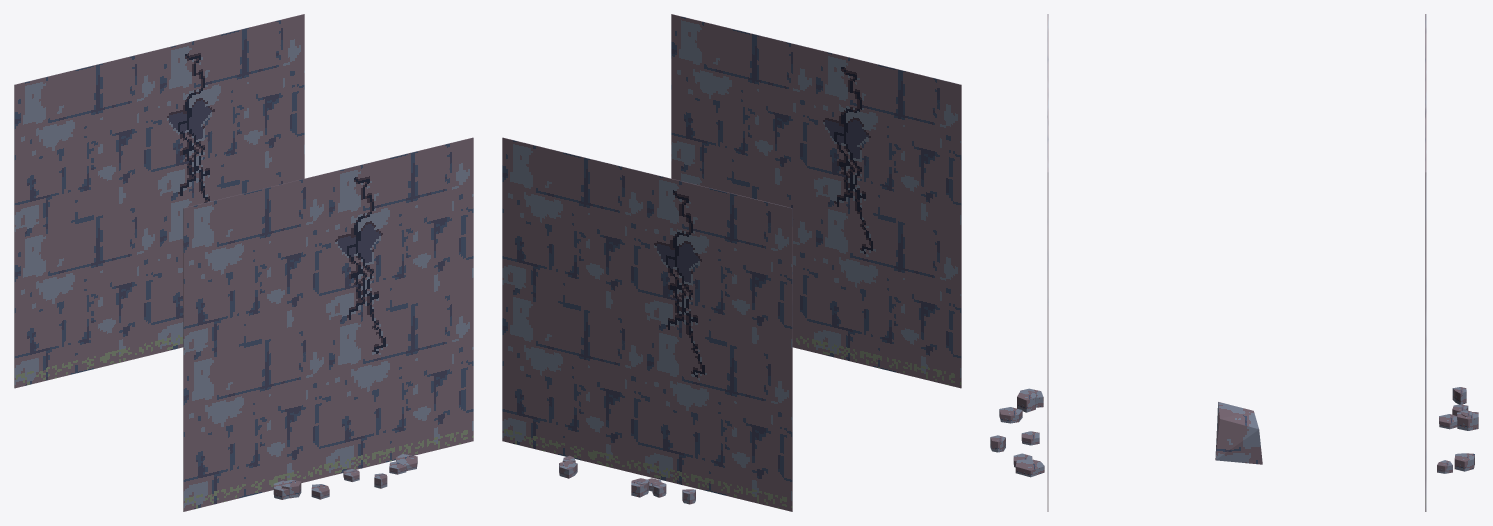
Rendered from cracked_wall_a.glb.
3 views of the same model, side by side, from view 1: azimuth 30°, elevation 25°; view 2: azimuth 150°, elevation 25°; view 3: azimuth 270°, elevation 25° (orthographic). The views are drawn at different scales.
Parts seen in each view (by area): view 1: panel_front, panel_back, debris_front; view 2: panel_back, panel_front, debris_back; view 3: chunk, debris_front, debris_back, panel_back, panel_front.
Boxes of the visible parts, x1,y1,x2,y2 form: panel_front: [183, 137, 473, 511]; panel_back: [14, 14, 304, 388]; debris_front: [273, 454, 417, 499]; panel_back: [502, 137, 792, 511]; panel_front: [671, 14, 961, 388]; debris_back: [559, 455, 695, 504]; chunk: [1215, 402, 1262, 464]; debris_front: [990, 388, 1044, 477]; debris_back: [1437, 387, 1478, 473]; panel_back: [1425, 14, 1426, 511]; panel_front: [1047, 14, 1048, 511].
Size of the model in its own units: 2 by 2.14 by 2.61.
Materials: 1 (1 with a texture image).
